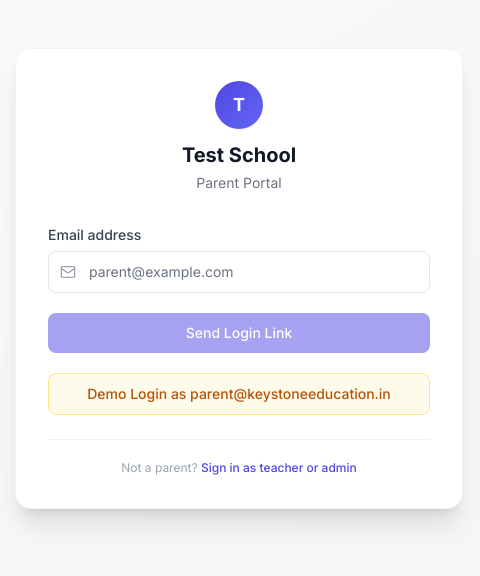
ParentLoginPage › error state › shows error message when requestMagicLink fails with detail
Type "bad@example.com" into the field labelled "Email address". click: (239, 272)
box: [48, 250, 430, 292]
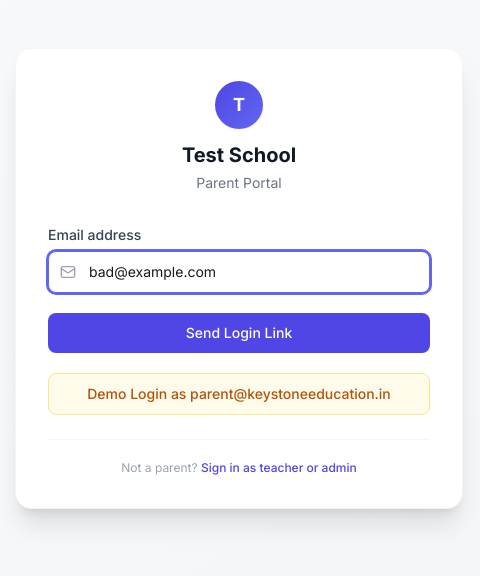
Click the button "Send Login Link". click: (239, 332)
box: [48, 312, 430, 352]
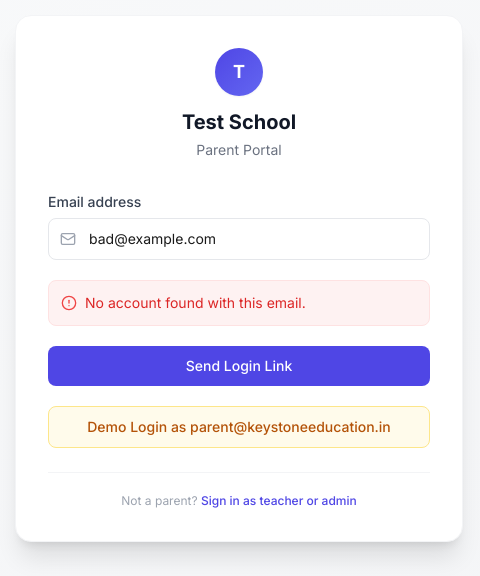
Expected: the text "No account found with this email." is shown, [85, 292, 306, 312]
